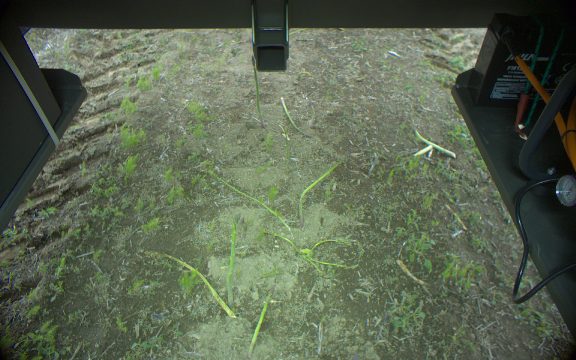aspa: (201, 169, 291, 236), (155, 253, 236, 321), (297, 154, 347, 231), (245, 281, 277, 358), (279, 95, 313, 139), (228, 214, 242, 315), (249, 54, 264, 132)
